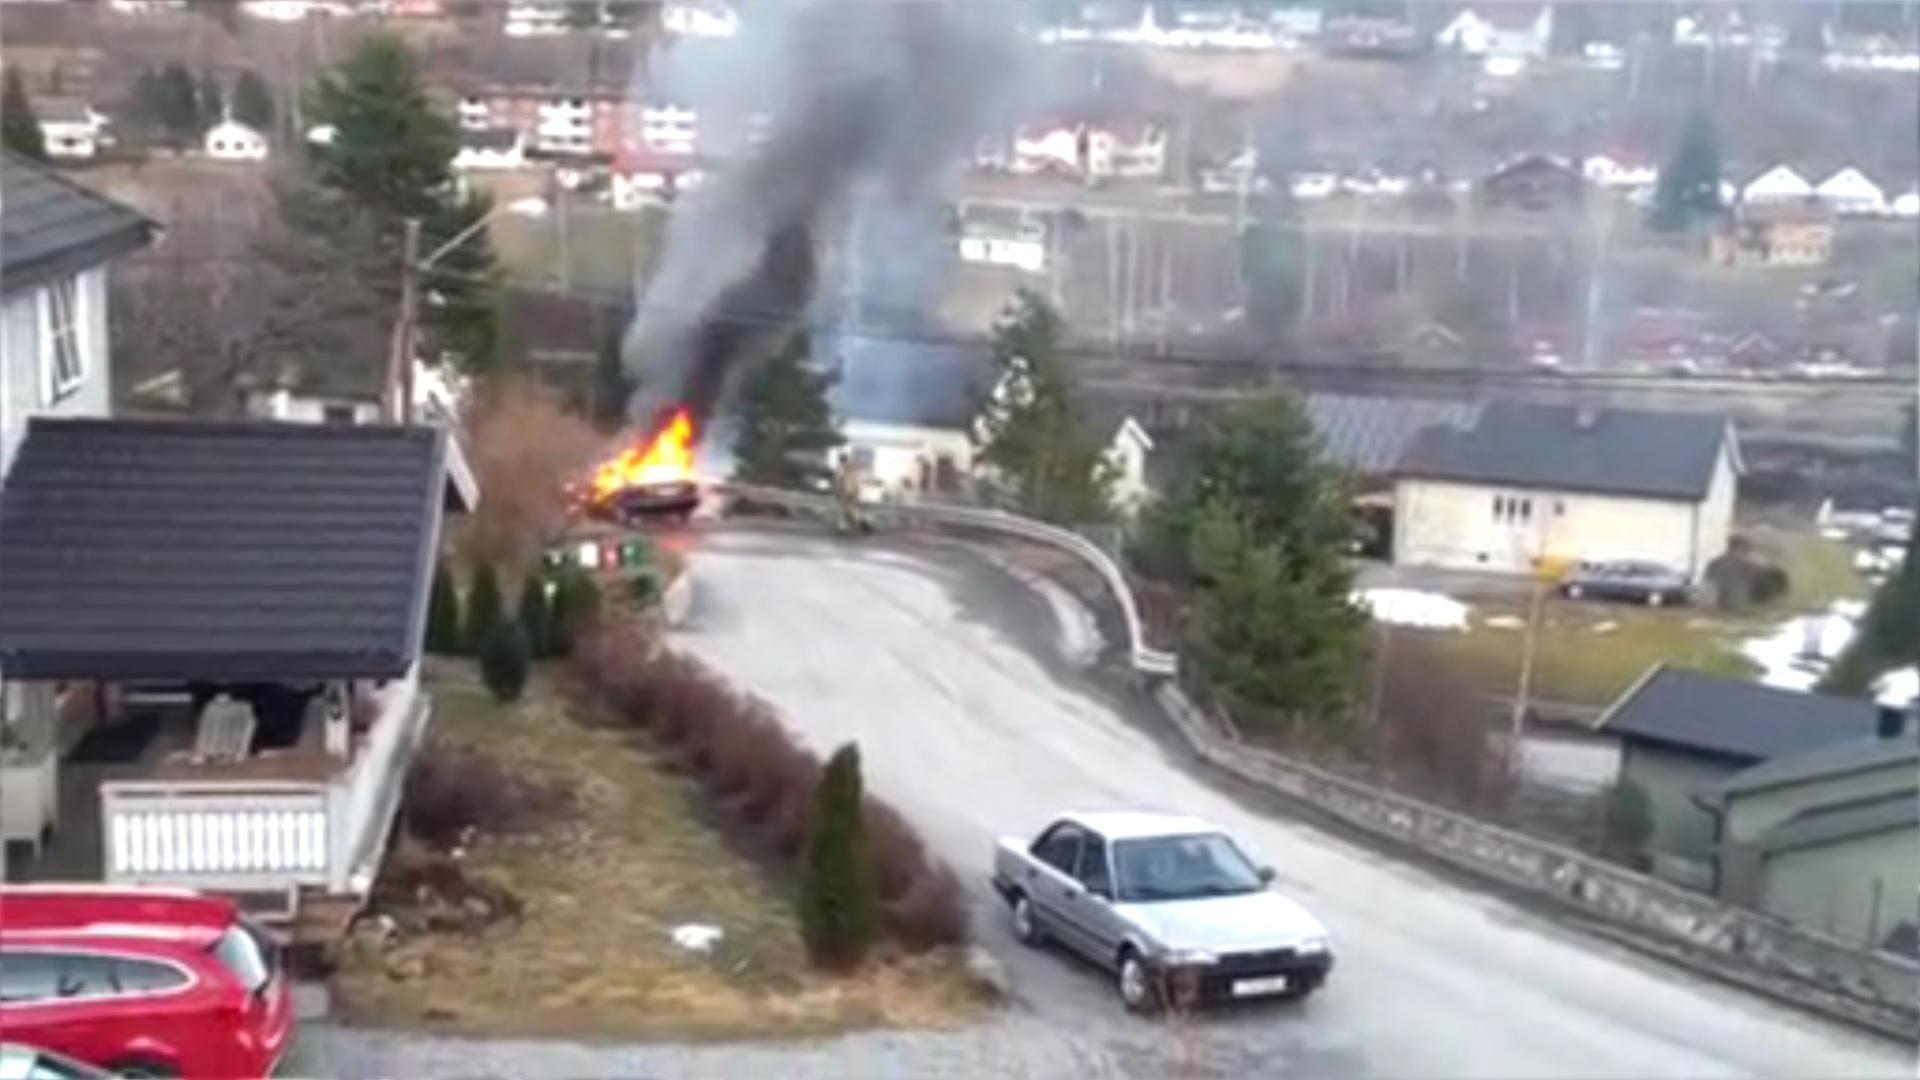fire: (595, 419, 698, 500)
